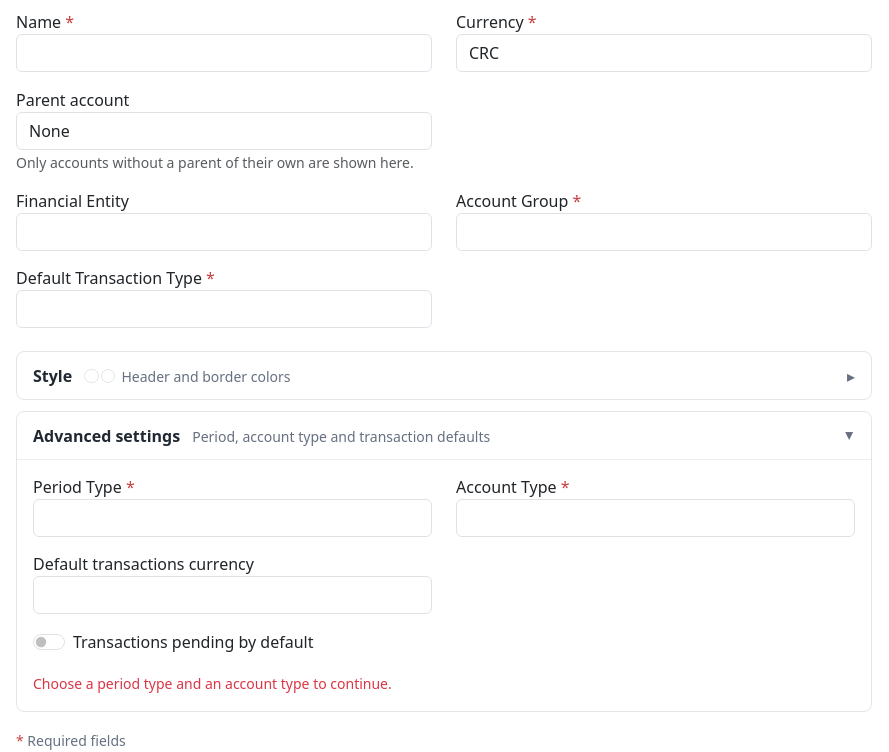
Test: NewAccountComponent main account template › style › opens when the toggle is clicked
Click the button with id "style-toggle" at (53, 376), box [17,352,871,399]
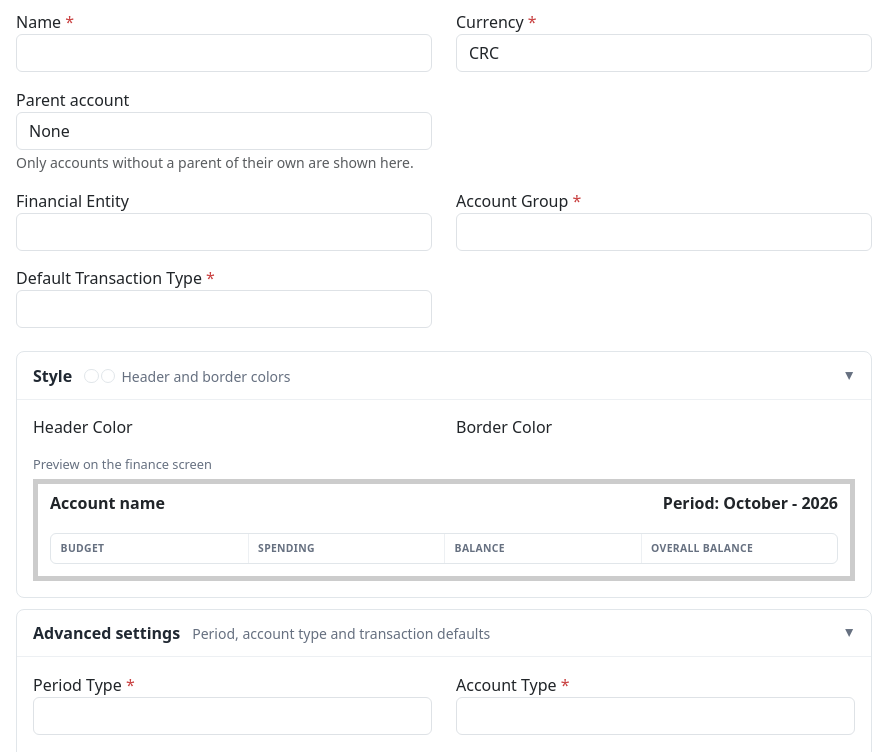
Expected: the button with id "style-toggle" is expanded, [17,352,871,399]
